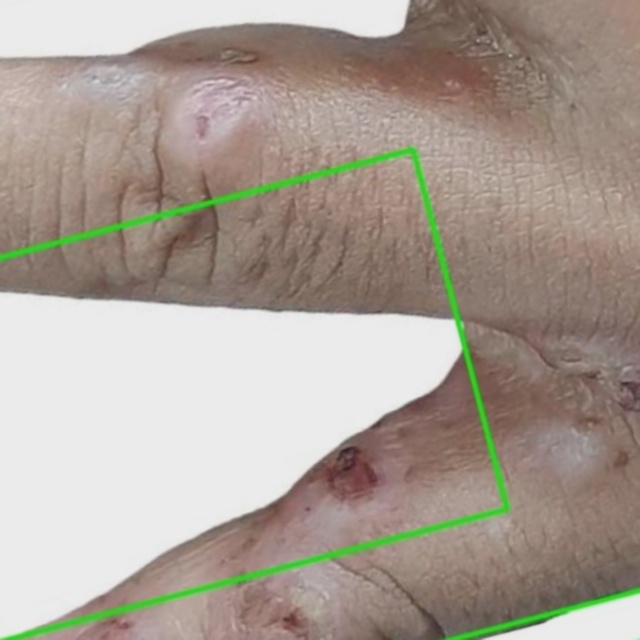Scabies: (0, 0, 639, 639), (0, 149, 506, 639)
